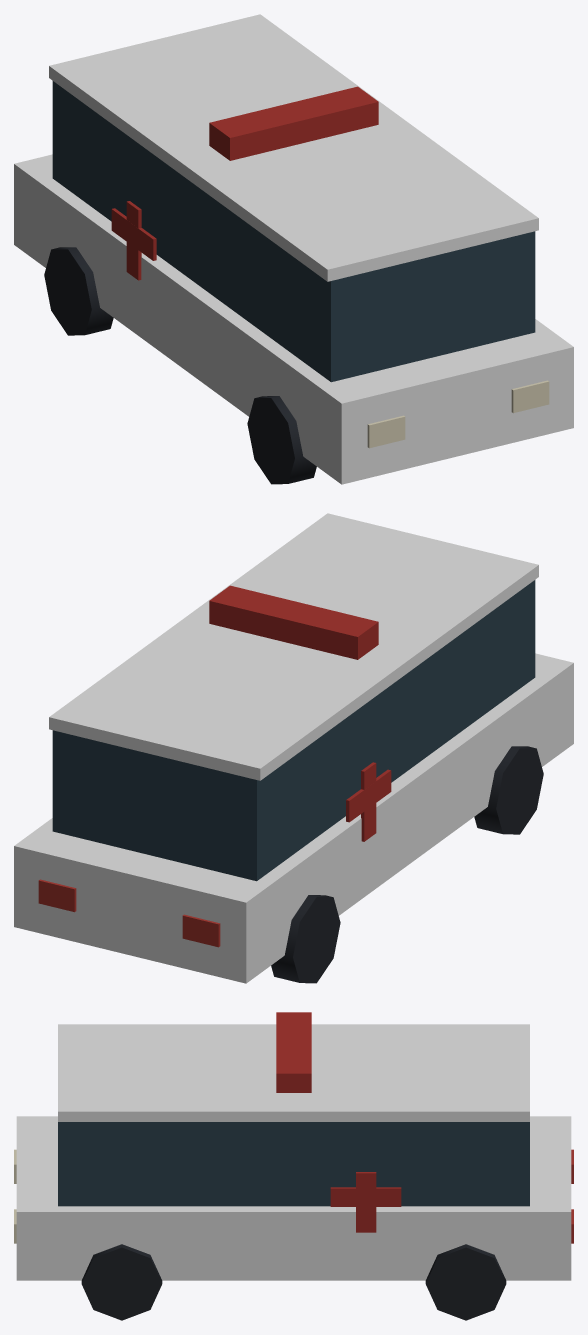
The model's file is veh_ambulance_1.3296791a5899.glb.
3 renders of one model, top to bottom at view 1: azimuth 30°, elevation 25°; view 2: azimuth 150°, elevation 25°; view 3: azimuth 270°, elevation 25°, orthographic. The views are drawn at different scales.
Parts seen in each view (by area): view 1: LOD0; view 2: LOD0; view 3: LOD0.
Part boxes in pixels (x1,y1,x2,y2): LOD0: [14, 14, 573, 484]; LOD0: [14, 513, 573, 983]; LOD0: [14, 1012, 573, 1320].
Size of what is drawn, in the model's own units: 1.93 by 1.98 by 4.44.
